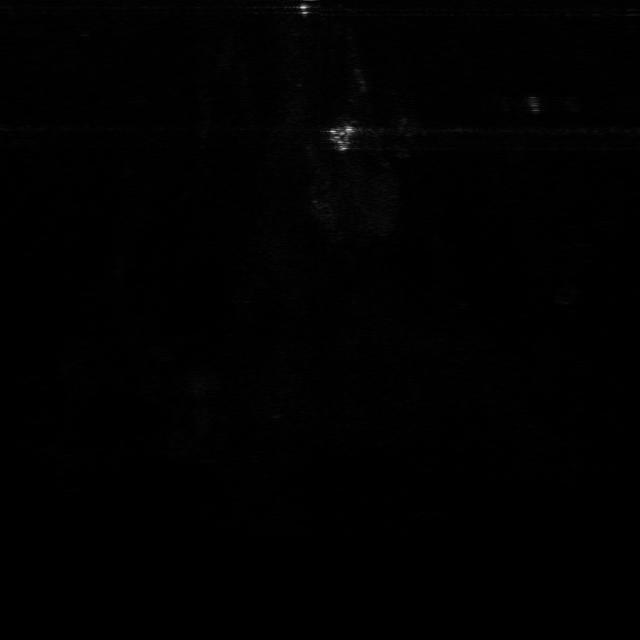rov: (320, 122, 360, 154)
